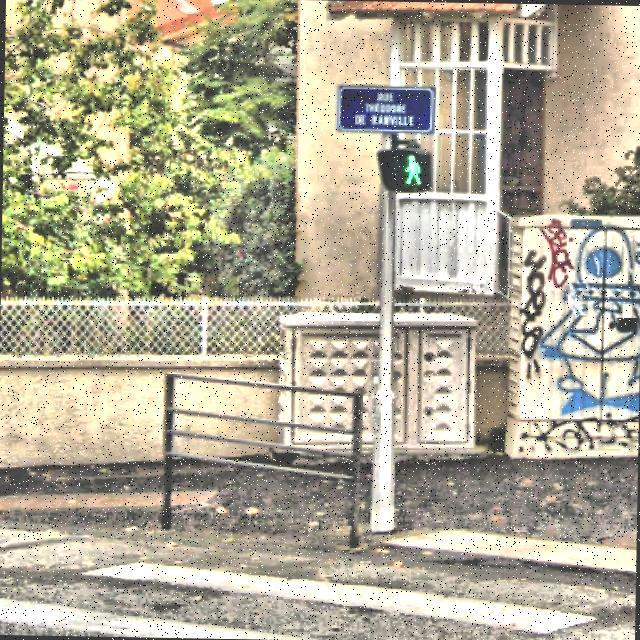green_light: (397, 146, 424, 186)
